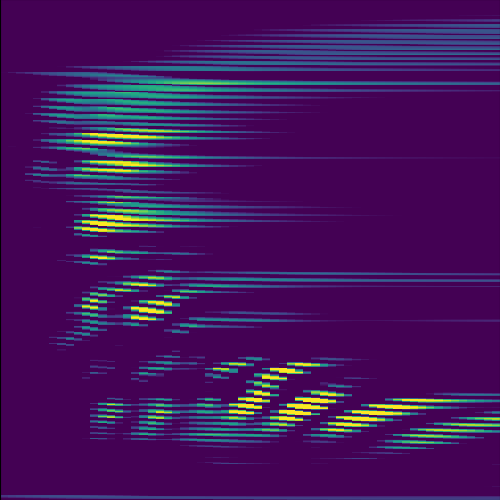semblance: (227, 355, 325, 426), (82, 271, 194, 328), (327, 394, 466, 435), (63, 122, 200, 151), (264, 385, 348, 430), (400, 410, 500, 447), (73, 205, 175, 238), (78, 156, 172, 180), (207, 354, 252, 375), (85, 244, 123, 264)
